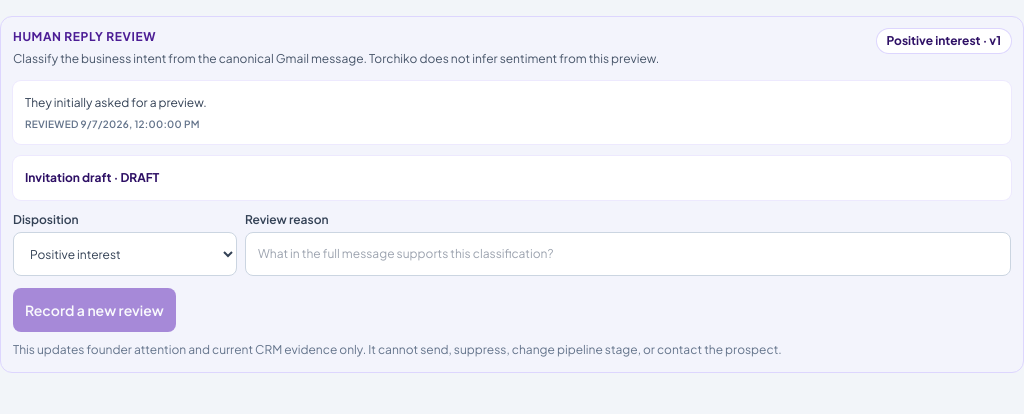
Scenario: ProspectInboundReplyReviewControl › shows a confirmed negative re-review as historical before router refresh resolves
Select "Not interested" in the dropdown labelled "Disposition". click: (125, 254)
box: left=13, top=232, right=237, bottom=276
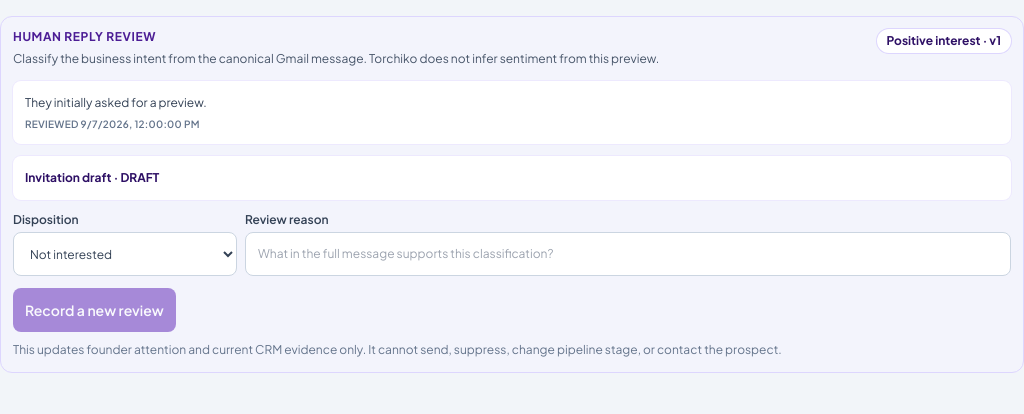
Type "They declined." into the field labelled "Review reason". click: (628, 254)
box: left=245, top=232, right=1011, bottom=276
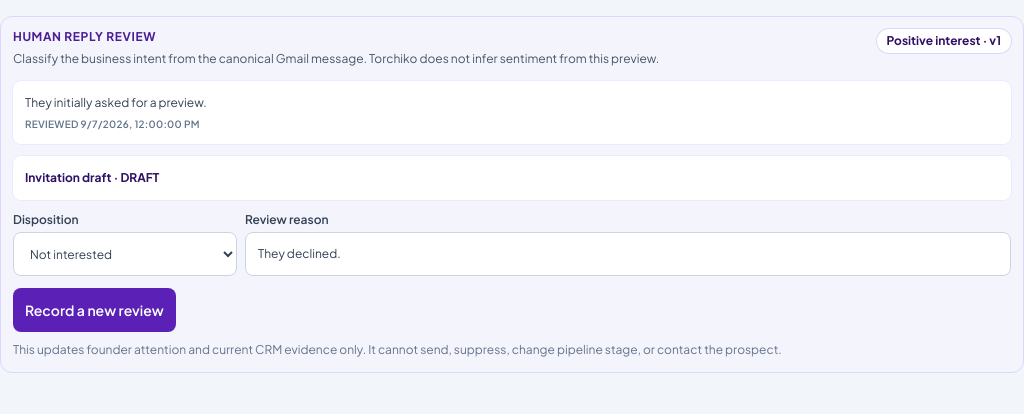
Click the button "Record a new review". click: (94, 310)
box: left=13, top=288, right=176, bottom=332
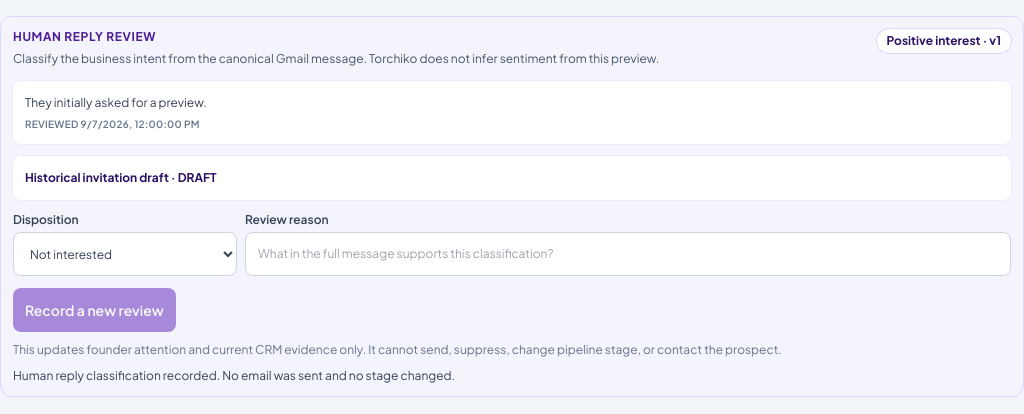
Expected: the heading "Historical invitation draft · DRAFT" is shown, left=25, top=170, right=217, bottom=185
